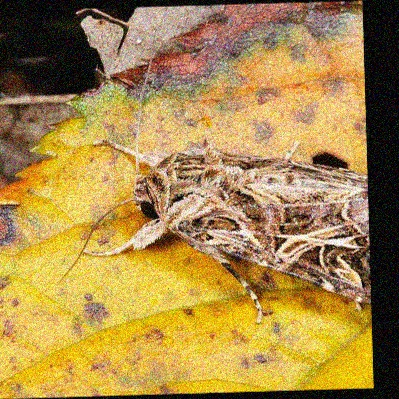Spodoptera litura: (53, 24, 367, 326)
